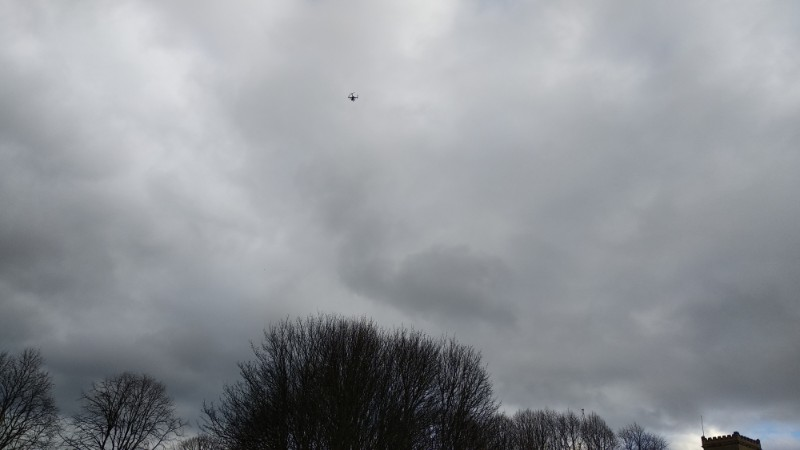drone: (347, 93, 359, 102)
